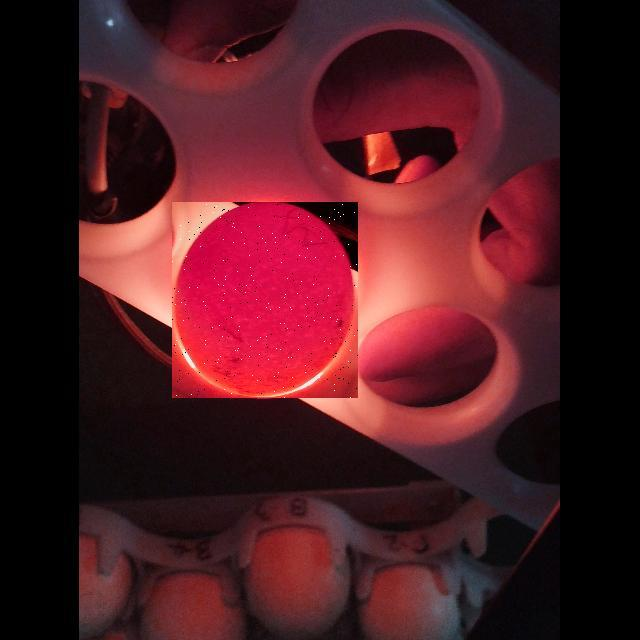Infertile: (172, 202, 358, 398)
